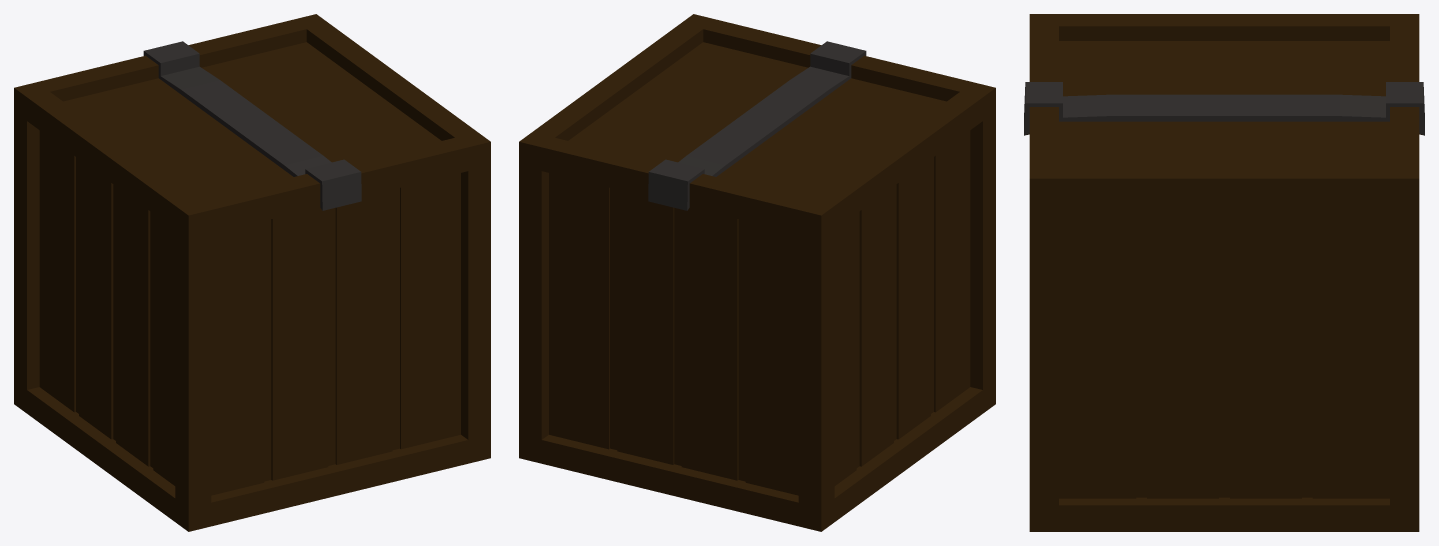
The model's file is WoodenCrate1.glb.
3 renders of one model, left to right at view 1: azimuth 30°, elevation 25°; view 2: azimuth 150°, elevation 25°; view 3: azimuth 270°, elevation 25°, orthographic. The views are drawn at different scales.
Visible parts, largest first — view 1: Wooden Crate 2; view 2: Wooden Crate 2; view 3: Wooden Crate 2.
Boxes of the visible parts, left/top/right/bottom form: Wooden Crate 2: left=14, top=14, right=490, bottom=531; Wooden Crate 2: left=519, top=14, right=995, bottom=531; Wooden Crate 2: left=1024, top=14, right=1424, bottom=531.
Bounding box in the file's own units: 0.5 × 0.5054 × 0.5141.
